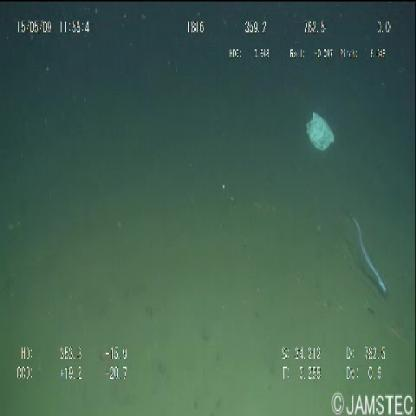Rác: (306, 112, 335, 150)
